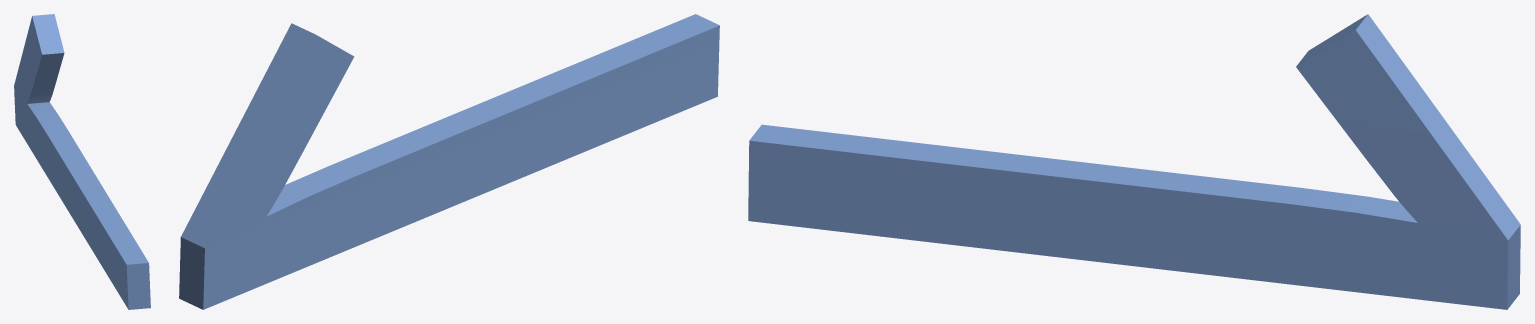
Rendered from New_Number_1.gltf.
3 renders of one model, left to right at view 1: azimuth 30°, elevation 25°; view 2: azimuth 150°, elevation 25°; view 3: azimuth 270°, elevation 25°, orthographic. The views are drawn at different scales.
Visible parts, largest first — view 1: Part 667; view 2: Part 667; view 3: Part 667.
Boxes of the visible parts, x1,y1,x2,y2 form: Part 667: (14,14,150,309); Part 667: (179,14,719,309); Part 667: (748,14,1520,309).
Size of the model in its own units: 0.00161 by 0.00182 by 0.00494.
